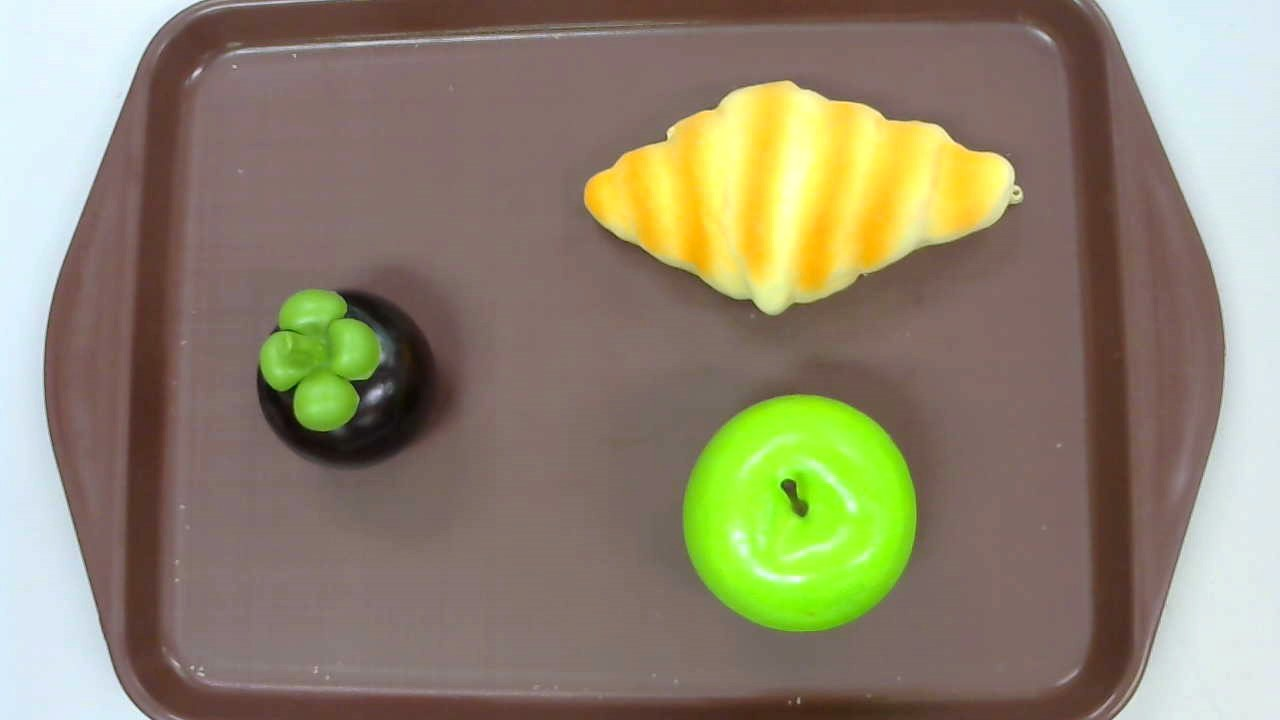croissant: (583, 79, 1023, 315)
green apple: (683, 392, 916, 631)
mangosteen: (256, 287, 438, 470)
